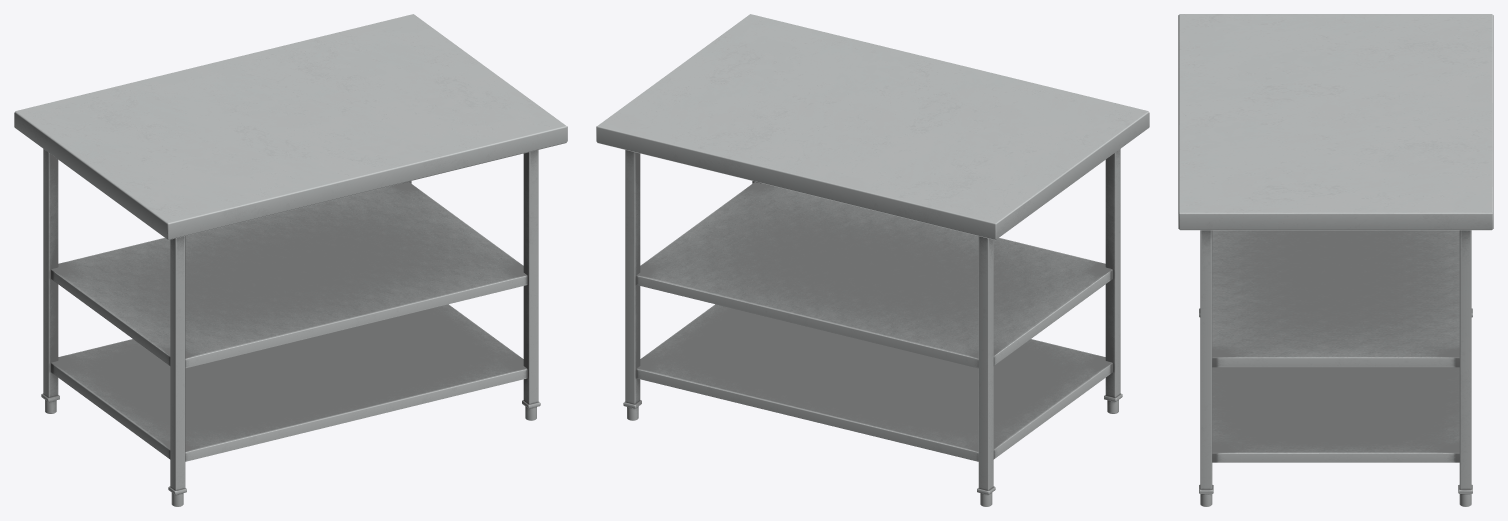
Rendered from KitchenTable_02 1.FBX.
3 renders of one model, left to right at view 1: azimuth 30°, elevation 25°; view 2: azimuth 150°, elevation 25°; view 3: azimuth 270°, elevation 25°, orthographic. The views are drawn at different scales.
Parts seen in each view (by area): view 1: KitchenTable_02; view 2: KitchenTable_02; view 3: KitchenTable_02.
Boxes of the visible parts, left/top/right/bottom form: KitchenTable_02: left=14, top=14, right=567, bottom=506; KitchenTable_02: left=596, top=14, right=1149, bottom=506; KitchenTable_02: left=1178, top=14, right=1493, bottom=506.
Bounding box in the file's own units: 120 × 85 × 80.
1 material, 1 textured.
